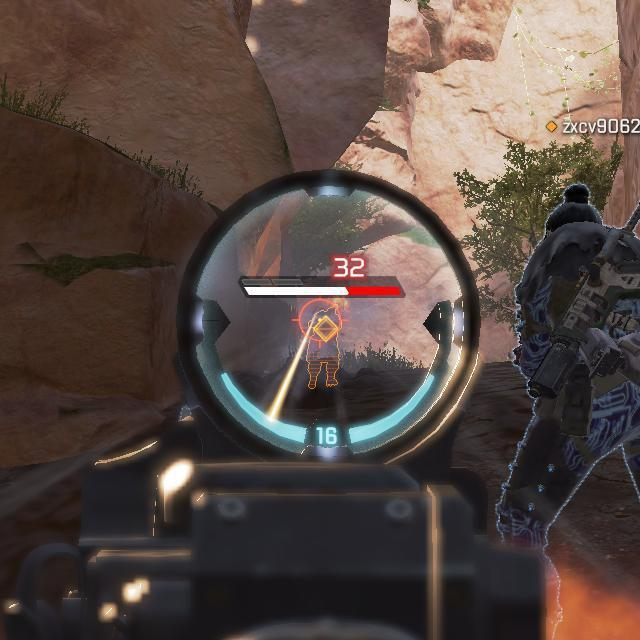avatar: (303, 305, 343, 390)
object: (311, 313, 341, 345)
